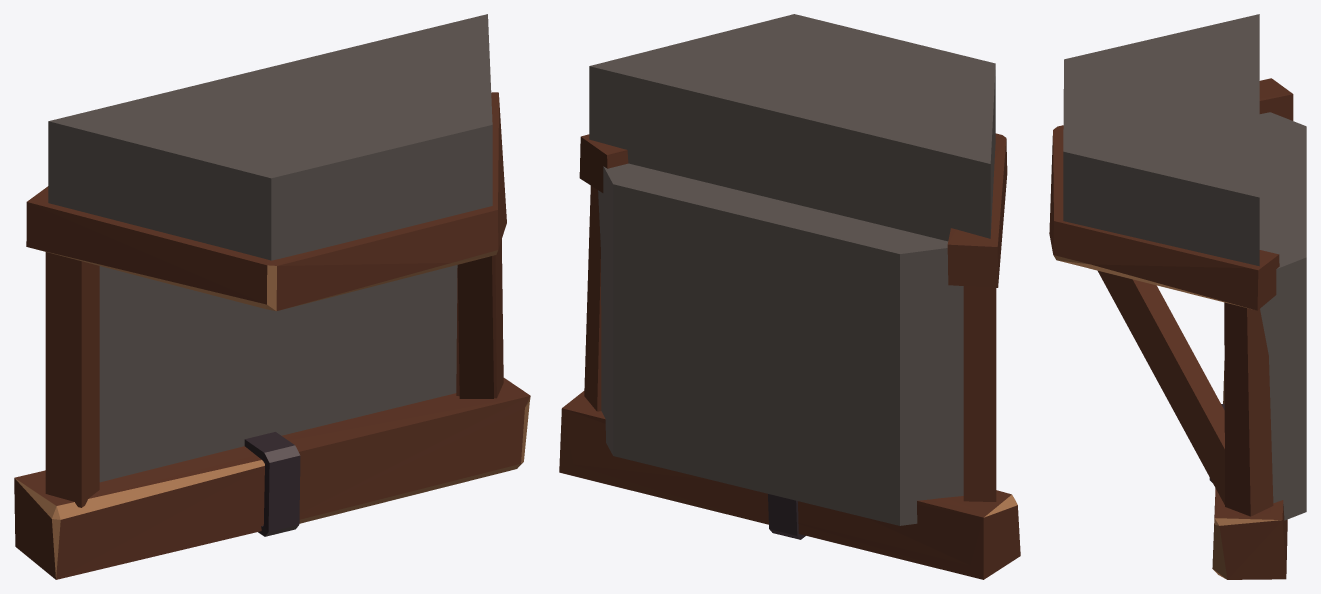
The model's file is MCastle_SmallTurret_12.FBX.
3 views of the same model, side by side, from view 1: azimuth 30°, elevation 25°; view 2: azimuth 150°, elevation 25°; view 3: azimuth 270°, elevation 25° (orthographic). The views are drawn at different scales.
Visible parts, largest first — view 1: MCastle_SmallTurret_12_LOD0; view 2: MCastle_SmallTurret_12_LOD0; view 3: MCastle_SmallTurret_12_LOD0.
Boxes of the visible parts, left/top/right/bottom form: MCastle_SmallTurret_12_LOD0: left=14, top=14, right=530, bottom=579; MCastle_SmallTurret_12_LOD0: left=559, top=14, right=1020, bottom=579; MCastle_SmallTurret_12_LOD0: left=1049, top=14, right=1306, bottom=579.
Size of what is drawn, in the model's own units: 5.63 by 5.07 by 3.1.
